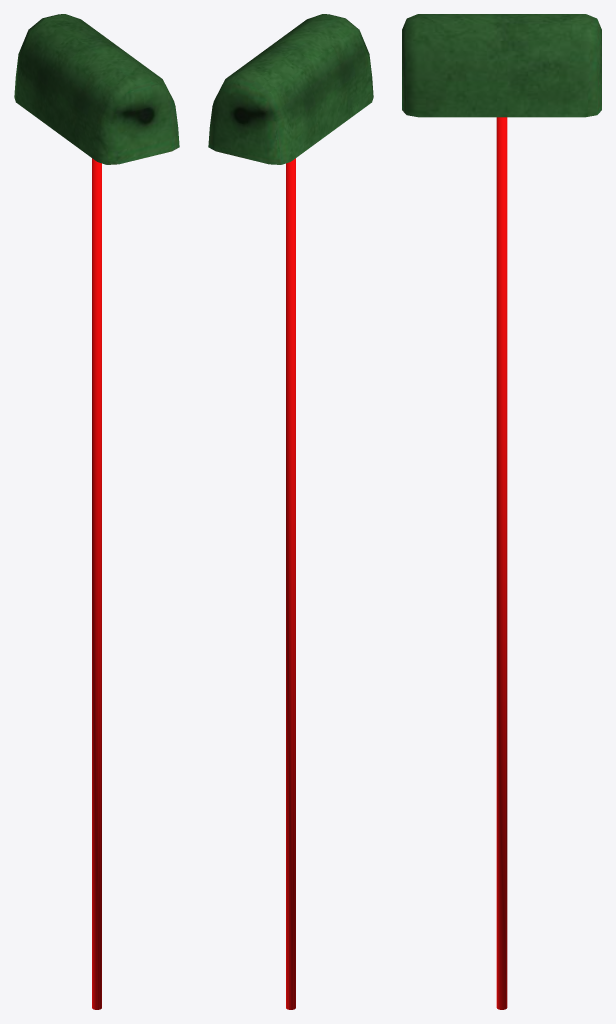
File: debugHead.obj
The picture shows the model from 3 angles, left to right: view 1: azimuth 30°, elevation 25°; view 2: azimuth 150°, elevation 25°; view 3: azimuth 270°, elevation 25°; orthographic projection. The views are drawn at different scales.
Parts seen in each view (by area): view 1: LampBulb, Sphere020; view 2: LampBulb, Sphere020; view 3: LampBulb, Sphere020.
Part boxes in pixels (x1,y1,x2,y2): LampBulb: (14, 14, 179, 164); Sphere020: (92, 158, 101, 1009); LampBulb: (208, 14, 373, 164); Sphere020: (286, 158, 295, 1009); LampBulb: (402, 14, 601, 117); Sphere020: (496, 117, 507, 1009).
Size of the model in its own units: 0.0924 by 1.05 by 0.1924.
